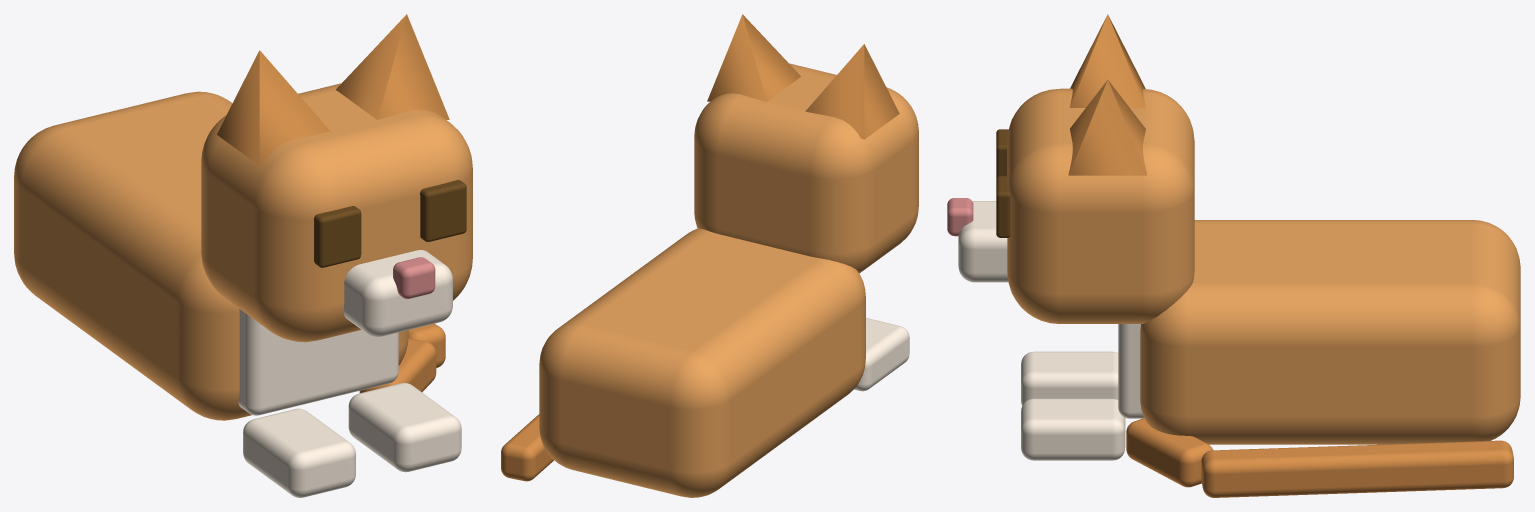
The model's file is base-cat-lying-full.glb.
The picture shows the model from 3 angles, left to right: view 1: azimuth 30°, elevation 25°; view 2: azimuth 150°, elevation 25°; view 3: azimuth 270°, elevation 25°; orthographic projection. The views are drawn at different scales.
Parts seen in each view (by area): view 1: PM_FUR_MAIN_0_30_-4, PM_FUR_MAIN_0_70_62, PM_FUR_SECONDARY_0_32_51, PM_FUR_SECONDARY_16_7_70, PM_FUR_SECONDARY_-16_7_70, PM_EARS_peak_l, PM_EARS_peak_r, PM_FUR_SECONDARY_0_59_93, PM_EYES_-16_77_90, PM_EYES_16_77_90, PM_TAIL_30_6_42, PM_NOSE_0_67_103 (+1 smaller); view 2: PM_FUR_MAIN_0_30_-4, PM_FUR_MAIN_0_70_62, PM_EARS_peak_l, PM_EARS_peak_r, PM_FUR_SECONDARY_-16_7_70, PM_TAIL_42_6_-12; view 3: PM_FUR_MAIN_0_30_-4, PM_FUR_MAIN_0_70_62, PM_TAIL_42_6_-12, PM_FUR_SECONDARY_16_7_70, PM_EARS_peak_r, PM_FUR_SECONDARY_-16_7_70, PM_EARS_peak_l, PM_TAIL_30_6_42, PM_FUR_SECONDARY_0_59_93, PM_FUR_SECONDARY_0_32_51, PM_EYES_16_77_90, PM_NOSE_0_67_103.
Part boxes in pixels (<box>): PM_FUR_MAIN_0_30_-4: <box>14,91,408,420</box>; PM_FUR_MAIN_0_70_62: <box>201,83,472,342</box>; PM_FUR_SECONDARY_0_32_51: <box>238,309,398,415</box>; PM_FUR_SECONDARY_16_7_70: <box>348,383,461,472</box>; PM_FUR_SECONDARY_-16_7_70: <box>243,408,355,497</box>; PM_EARS_peak_l: <box>217,50,330,165</box>; PM_EARS_peak_r: <box>336,14,449,119</box>; PM_FUR_SECONDARY_0_59_93: <box>343,250,452,336</box>; PM_EYES_-16_77_90: <box>314,206,361,267</box>; PM_EYES_16_77_90: <box>420,180,466,241</box>; PM_TAIL_30_6_42: <box>359,338,436,393</box>; PM_NOSE_0_67_103: <box>393,257,435,298</box>; PM_FUR_MAIN_0_30_-4: <box>539,228,865,497</box>; PM_FUR_MAIN_0_70_62: <box>694,63,918,273</box>; PM_EARS_peak_l: <box>805,44,899,139</box>; PM_EARS_peak_r: <box>707,14,800,101</box>; PM_FUR_SECONDARY_-16_7_70: <box>854,317,909,391</box>; PM_TAIL_42_6_-12: <box>501,414,553,481</box>; PM_FUR_MAIN_0_30_-4: <box>1140,220,1520,444</box>; PM_FUR_MAIN_0_70_62: <box>1007,88,1194,323</box>; PM_TAIL_42_6_-12: <box>1201,440,1513,497</box>; PM_FUR_SECONDARY_16_7_70: <box>1021,398,1125,460</box>; PM_EARS_peak_r: <box>1068,79,1146,175</box>; PM_FUR_SECONDARY_-16_7_70: <box>1021,351,1118,405</box>; PM_EARS_peak_l: <box>1070,14,1145,108</box>; PM_TAIL_30_6_42: <box>1126,418,1212,487</box>; PM_FUR_SECONDARY_0_59_93: <box>958,201,1008,282</box>; PM_FUR_SECONDARY_0_32_51: <box>1118,324,1144,418</box>; PM_EYES_16_77_90: <box>996,176,1010,237</box>; PM_NOSE_0_67_103: <box>947,198,973,236</box>.
Bounding box in the file's own units: 0.0853 × 0.1208 × 0.1653.
